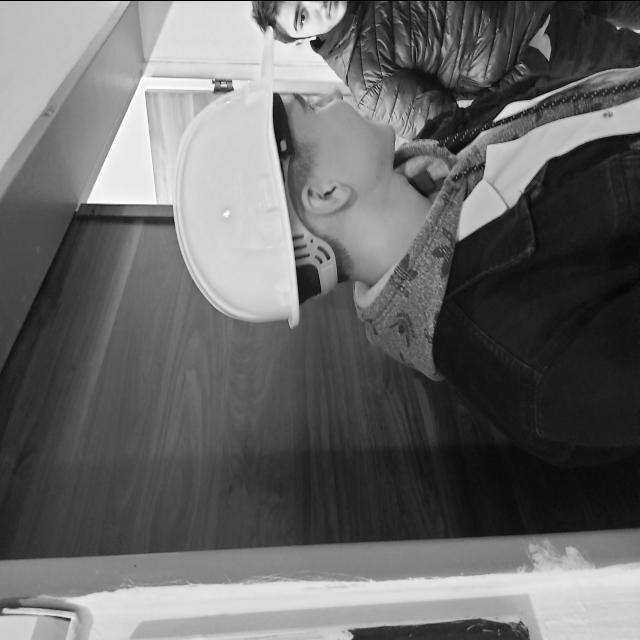safety_helmet: (173, 55, 343, 326)
